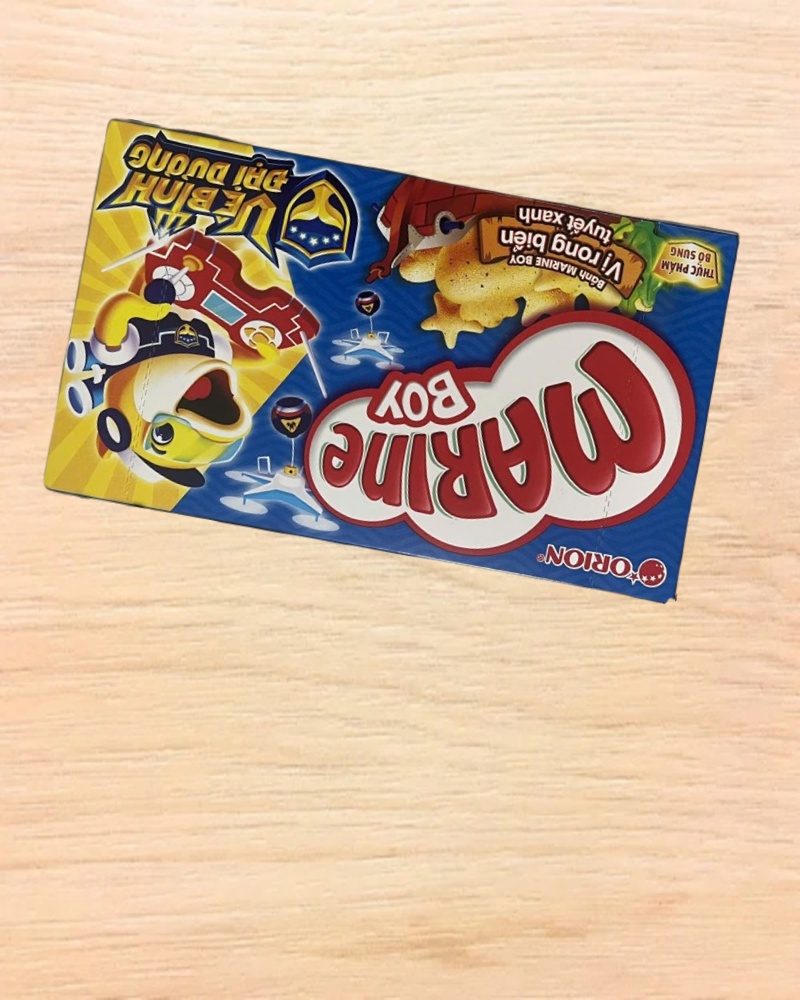Marine: (40, 117, 742, 606)
